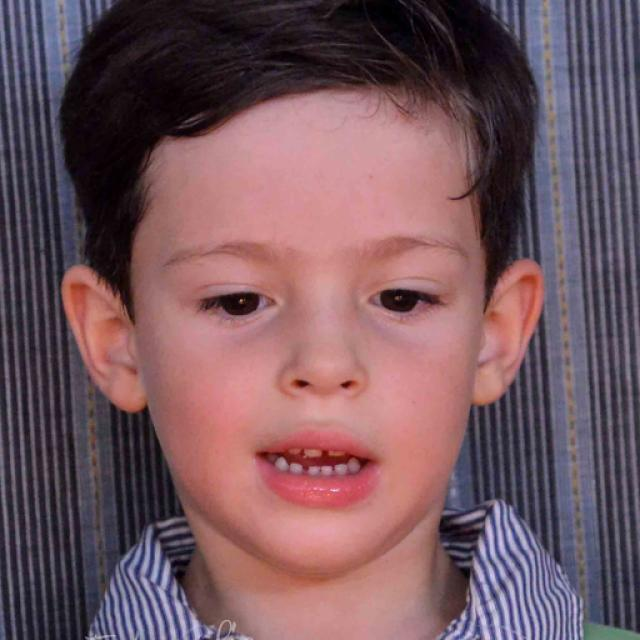neutral: (138, 97, 478, 572)
